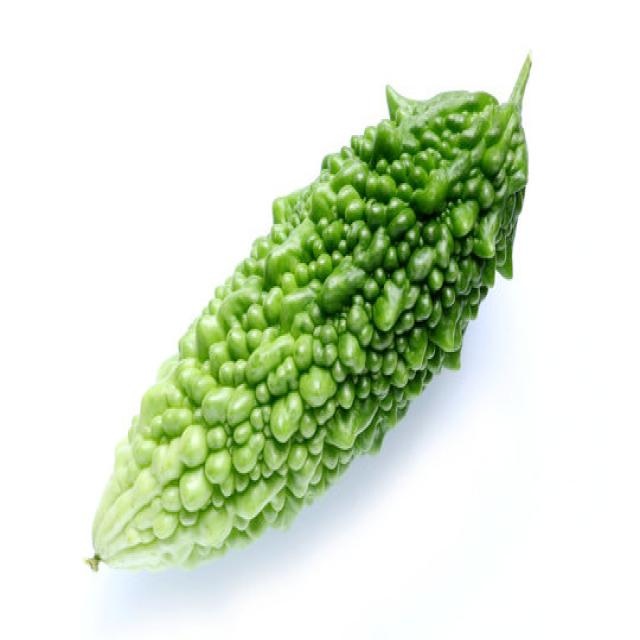Bitter_Gourd: (85, 50, 532, 574)
